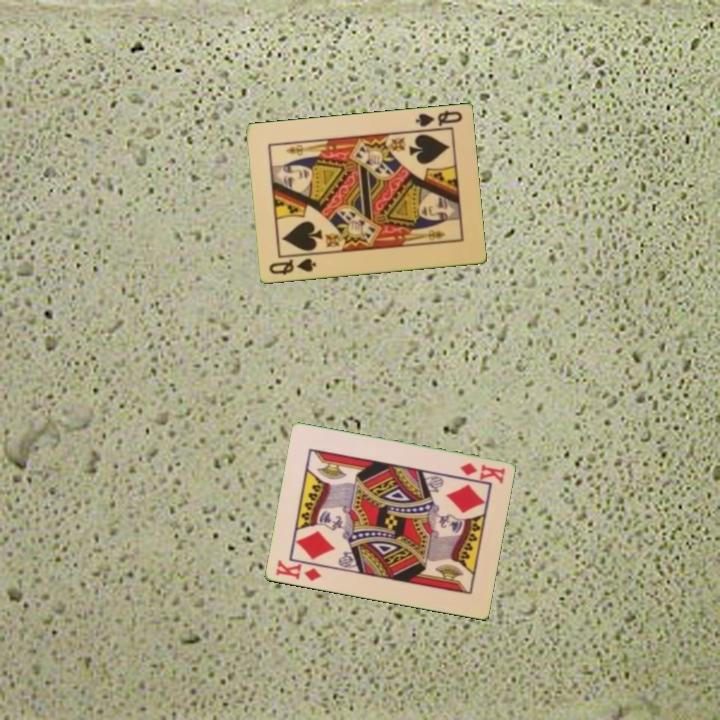Kd: (272, 557, 324, 584), (456, 459, 508, 486)
Qs: (265, 255, 319, 278), (411, 107, 465, 130)
